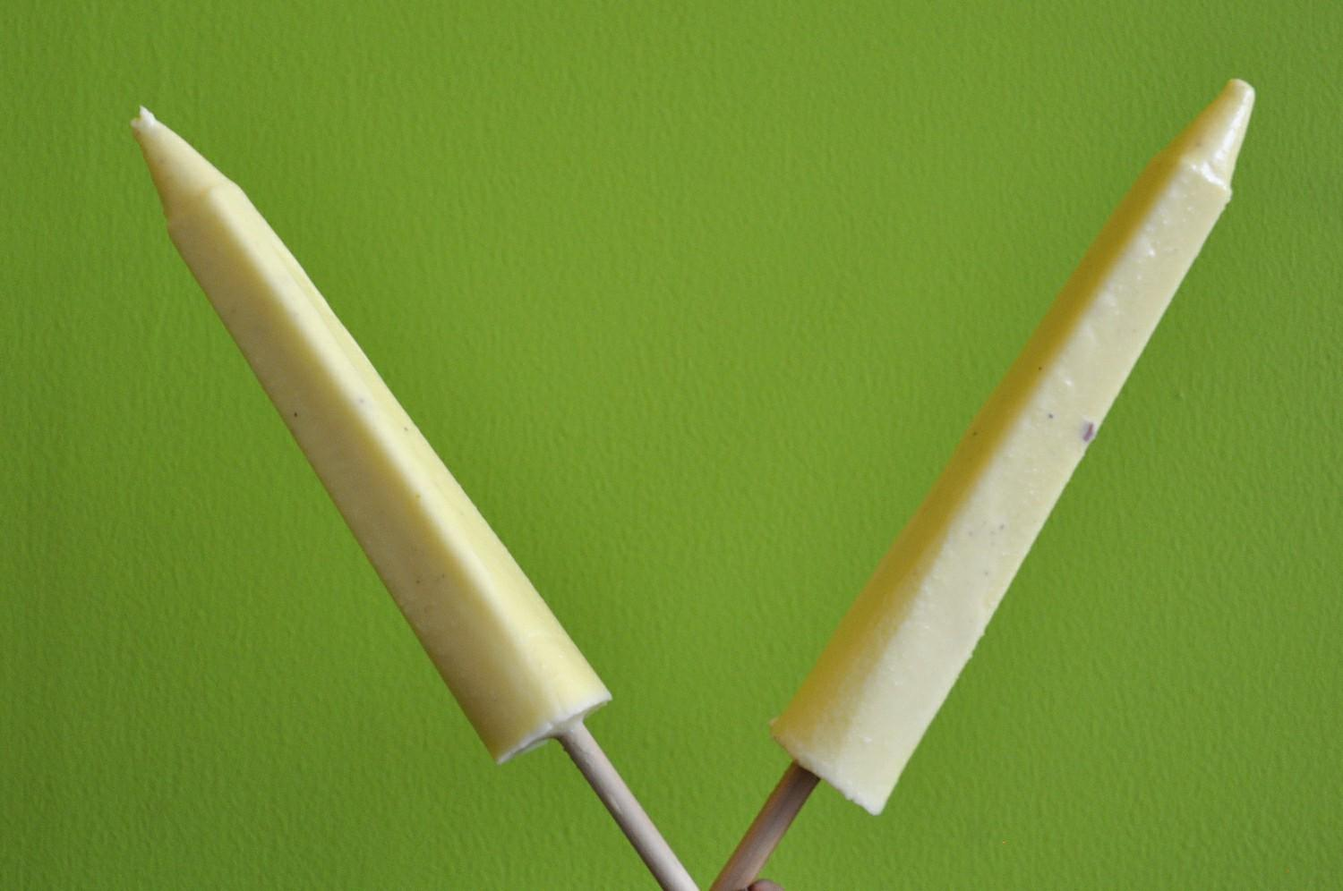Kulfi: (753, 68, 1259, 817), (126, 99, 614, 765)
